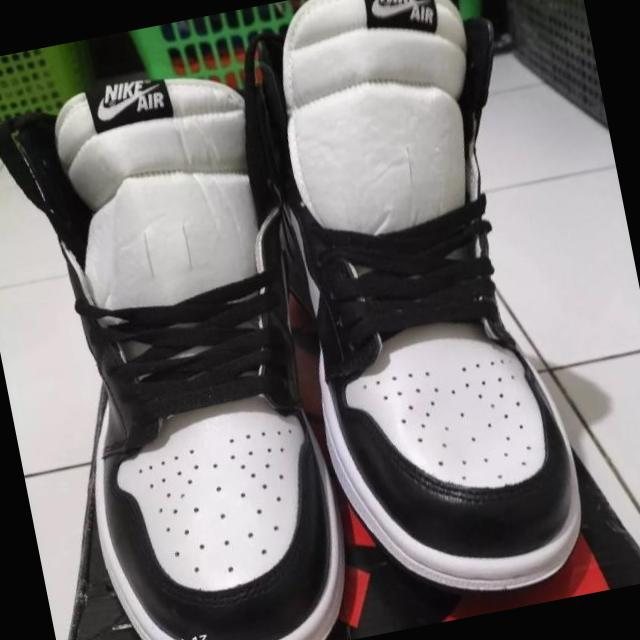nike_fake_jordan: (242, 0, 602, 622), (0, 40, 370, 640)
